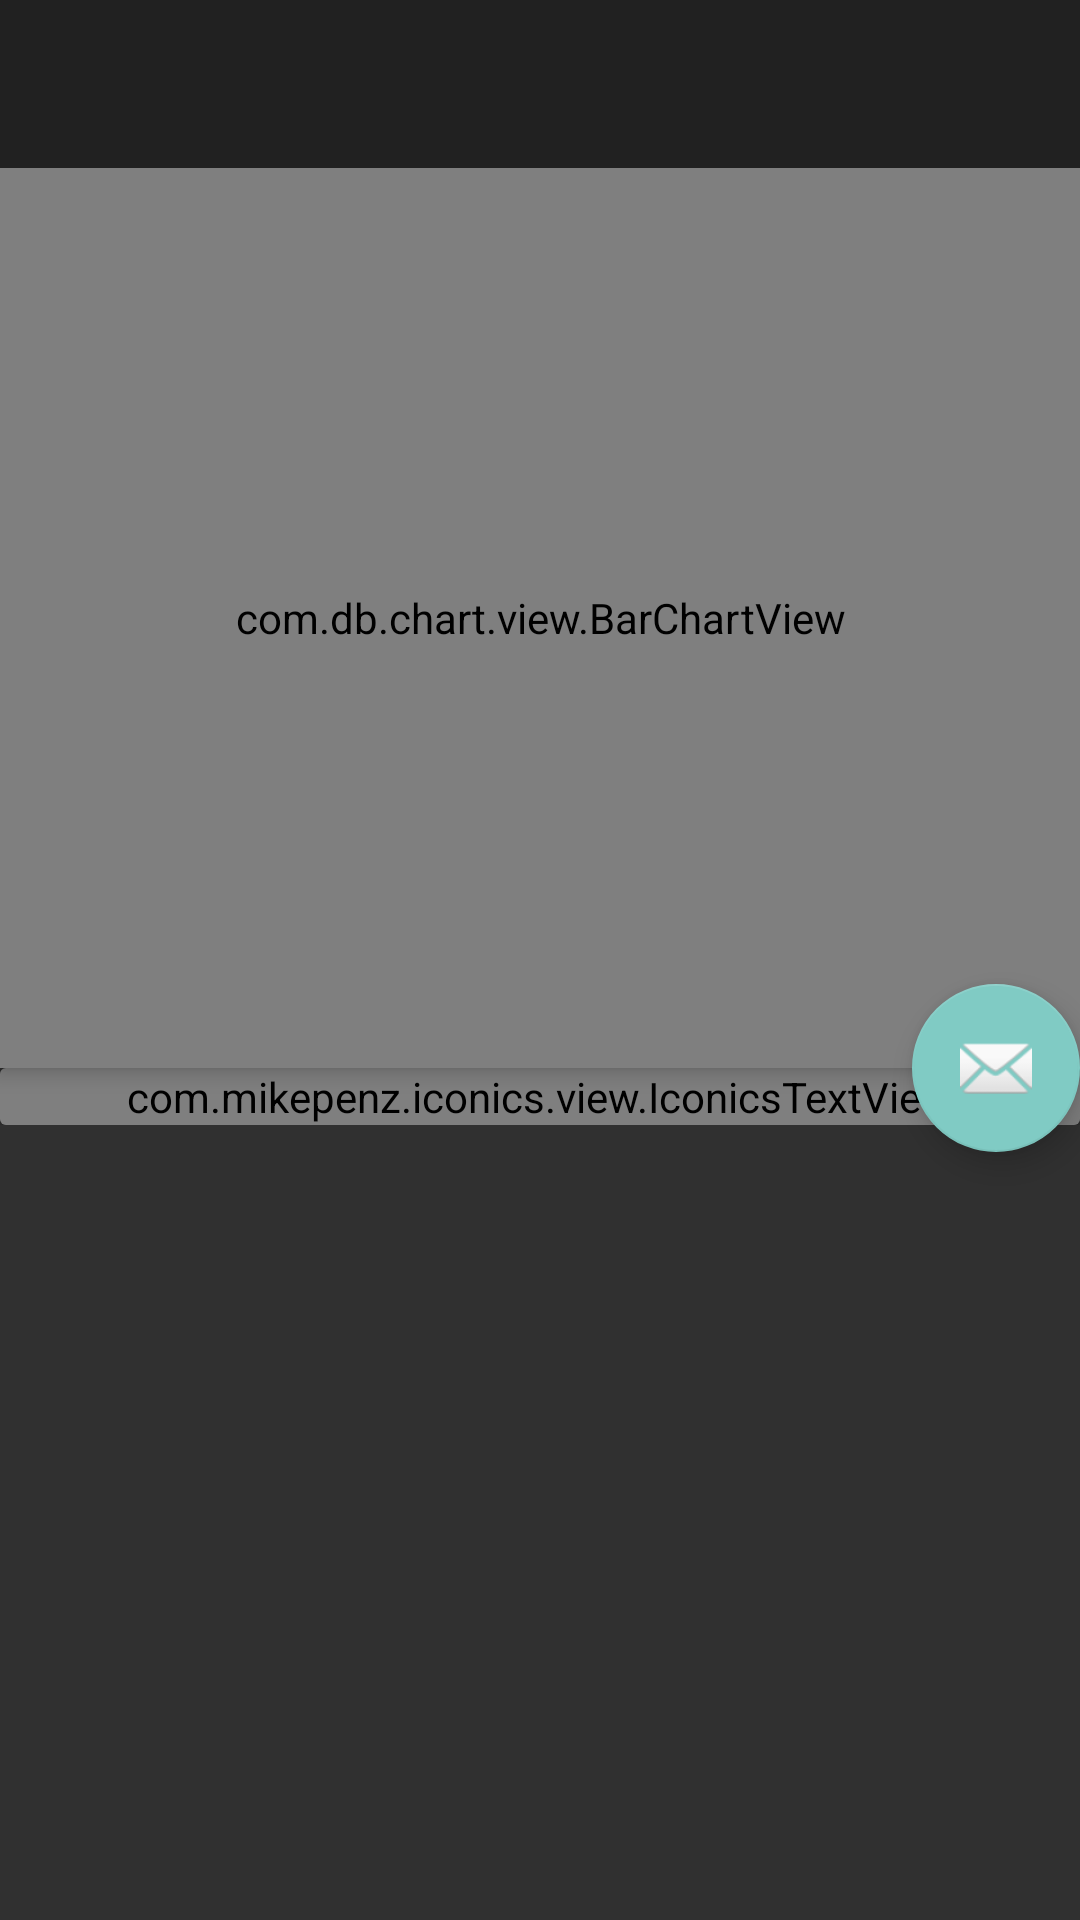

Icons on this 1080 x 1920 Android screen, each with the point to tap as (x=x, y=y):
email: (x=996, y=1068)
